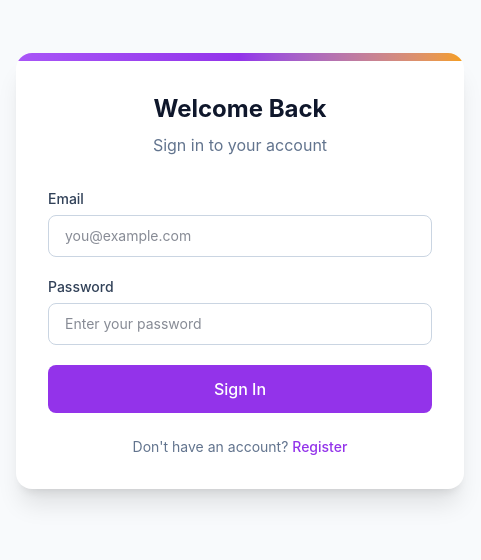
it: LoginForm › displays error message on login failure
Type "test@example.com" into the field labelled "Email". click: (240, 236)
box: [48,215,432,257]
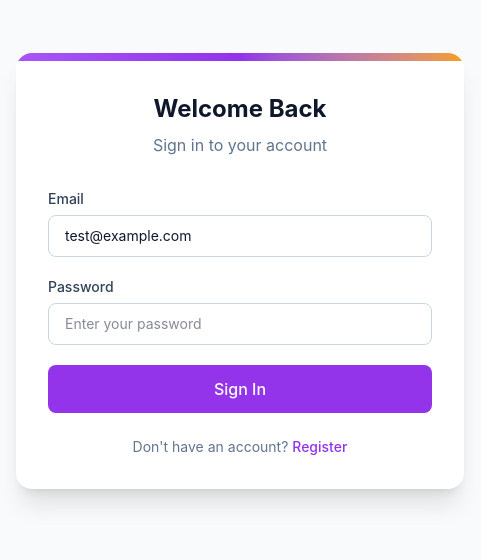
Type "wrongpassword" into the password field labelled "Password". click: (240, 324)
box: [48,303,432,345]
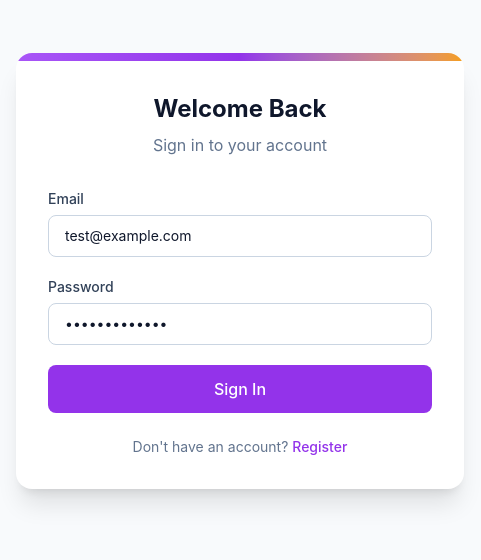
Click the button "Sign In". click: (240, 389)
box: [48,365,432,413]
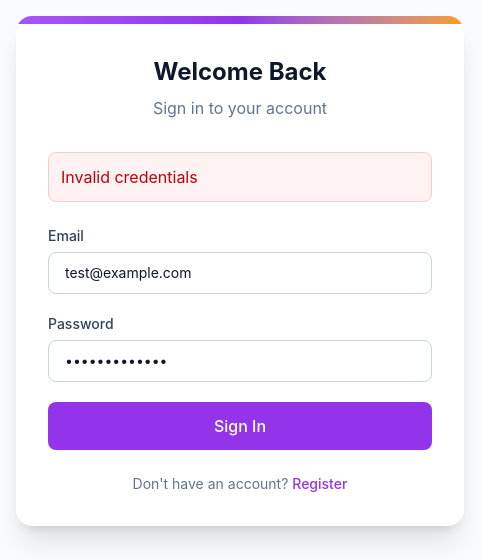
Expected: the text "Invalid credentials" is shown, [61,167,198,187]
